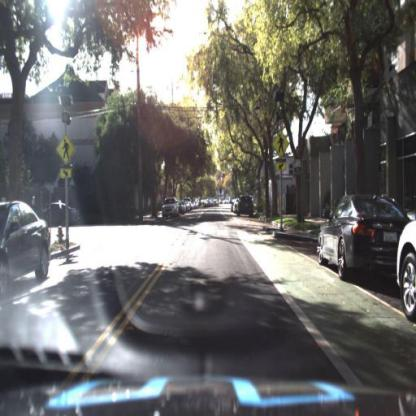car: (318, 191, 414, 280), (321, 190, 411, 282), (1, 200, 53, 302), (394, 205, 416, 323), (41, 199, 84, 230), (159, 195, 180, 222), (237, 192, 254, 219), (236, 193, 255, 217)
